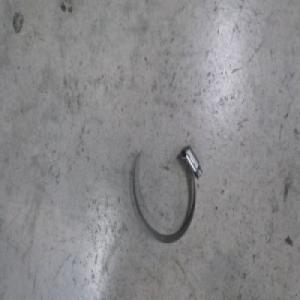AdjustableClamp: (132, 140, 205, 245)
